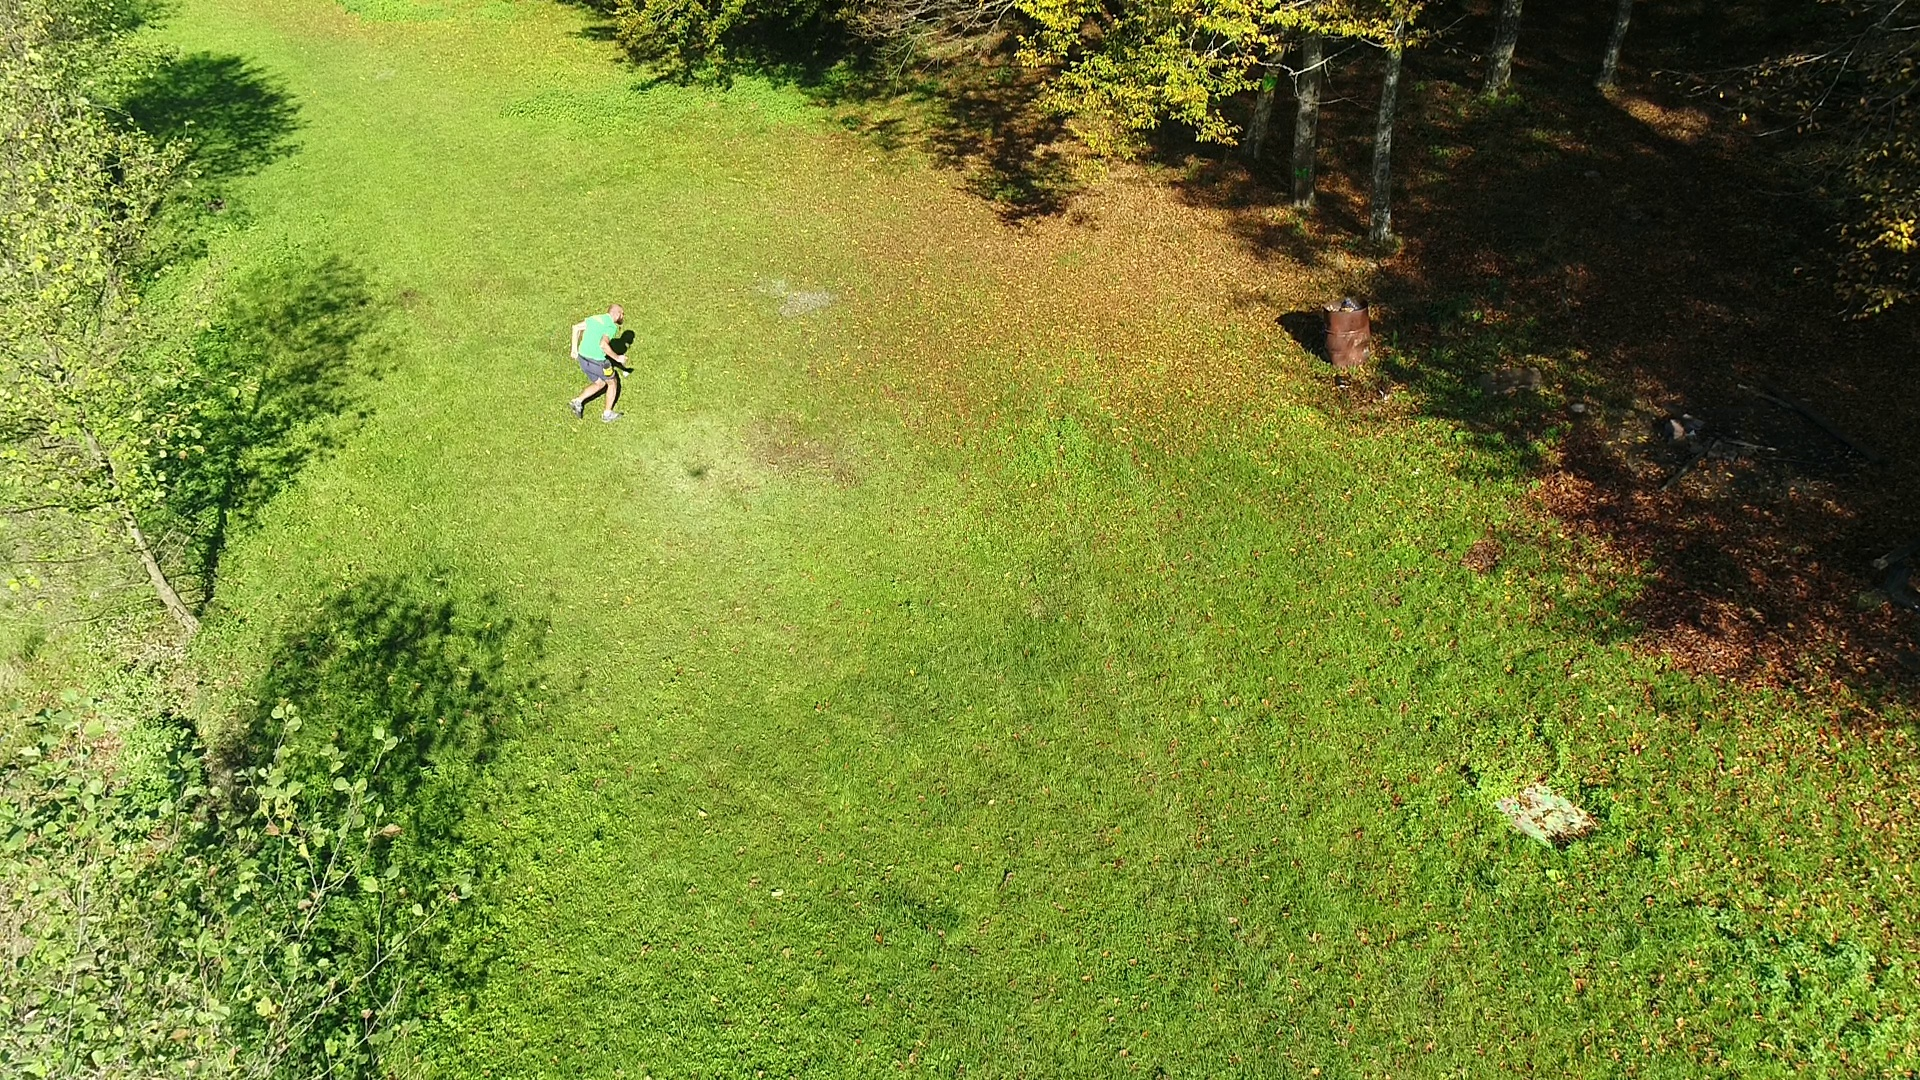person: (568, 302, 630, 421)
